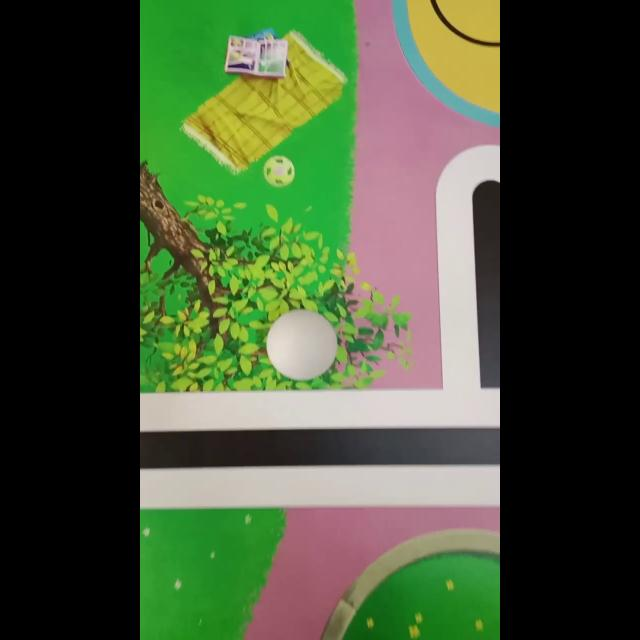white ball: (266, 308, 338, 380)
